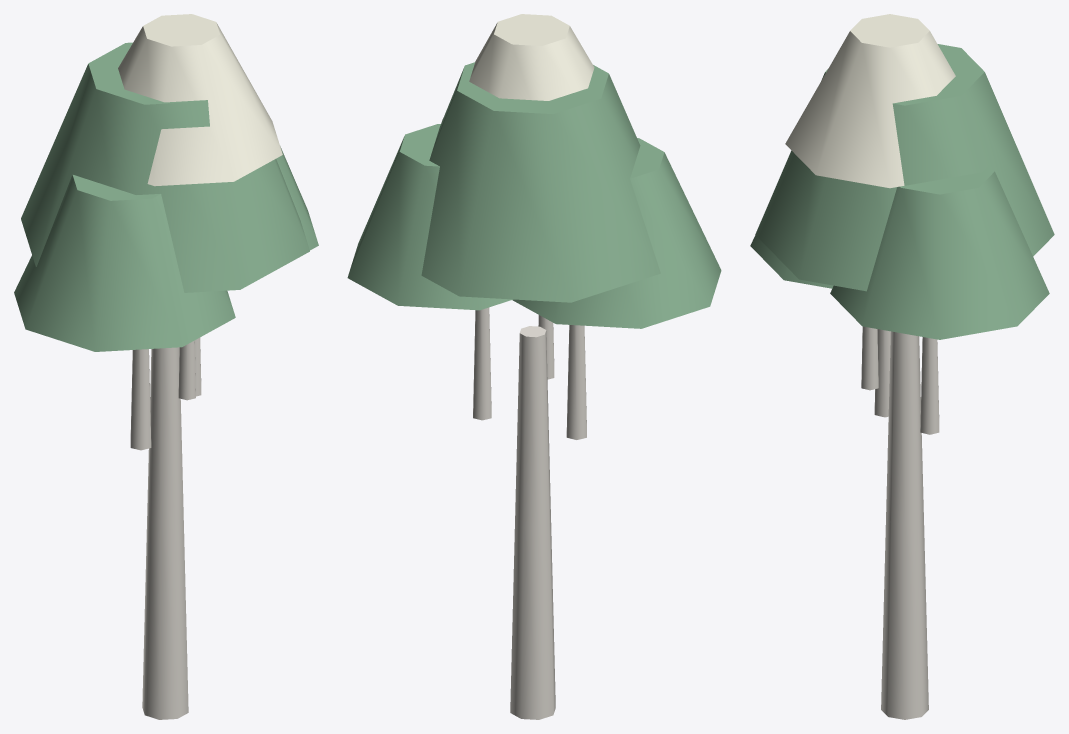
The model's file is flora_25_melaleuca_cajeput_avenue_tree.glb.
3 renders of one model, left to right at view 1: azimuth 30°, elevation 25°; view 2: azimuth 150°, elevation 25°; view 3: azimuth 270°, elevation 25°, orthographic.
Parts seen in each view (by area): view 1: flora_25_melaleuca_cajeput_avenue_tree; view 2: flora_25_melaleuca_cajeput_avenue_tree; view 3: flora_25_melaleuca_cajeput_avenue_tree.
Boxes of the visible parts, x1,y1,x2,y2 form: flora_25_melaleuca_cajeput_avenue_tree: (14,14,318,719); flora_25_melaleuca_cajeput_avenue_tree: (347,14,721,719); flora_25_melaleuca_cajeput_avenue_tree: (750,14,1054,719).
Size of the model in its own units: 7.4 by 15.1 by 6.1.
